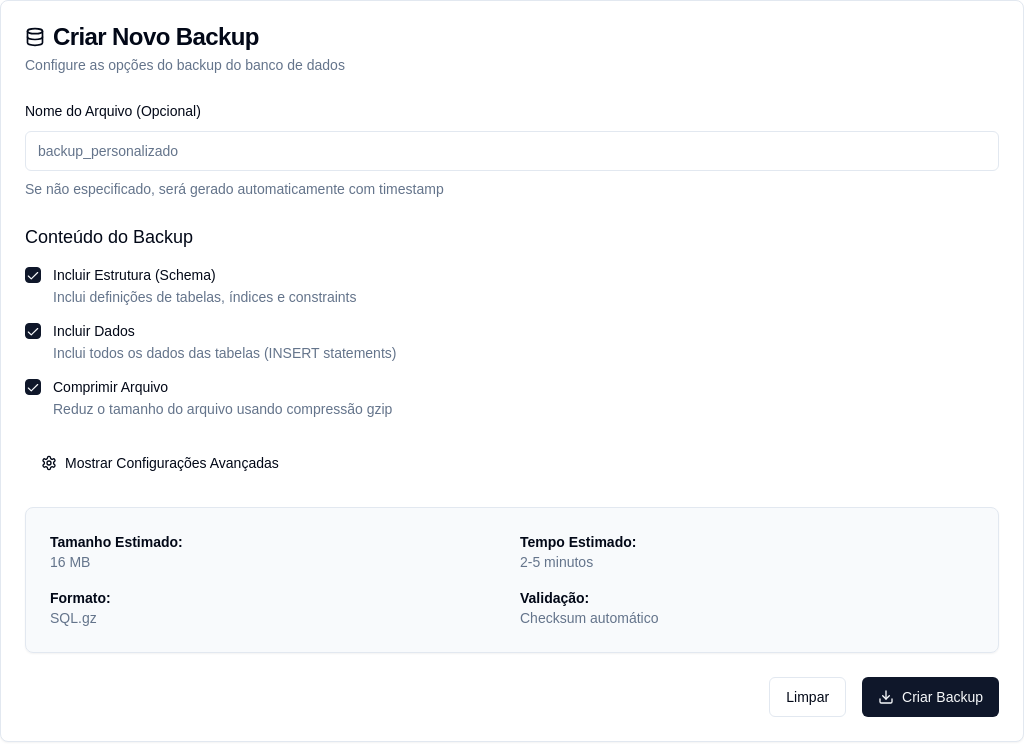
CreateBackupForm › deve mostrar aviso quando nem dados nem schema estão selecionados
The width and height of the screenshot is (1024, 756).
Click the checkbox named "Incluir Estrutura (Schema)" next to "Incluir Estrutura (Schema)" at (33, 275), box [25, 267, 41, 283]
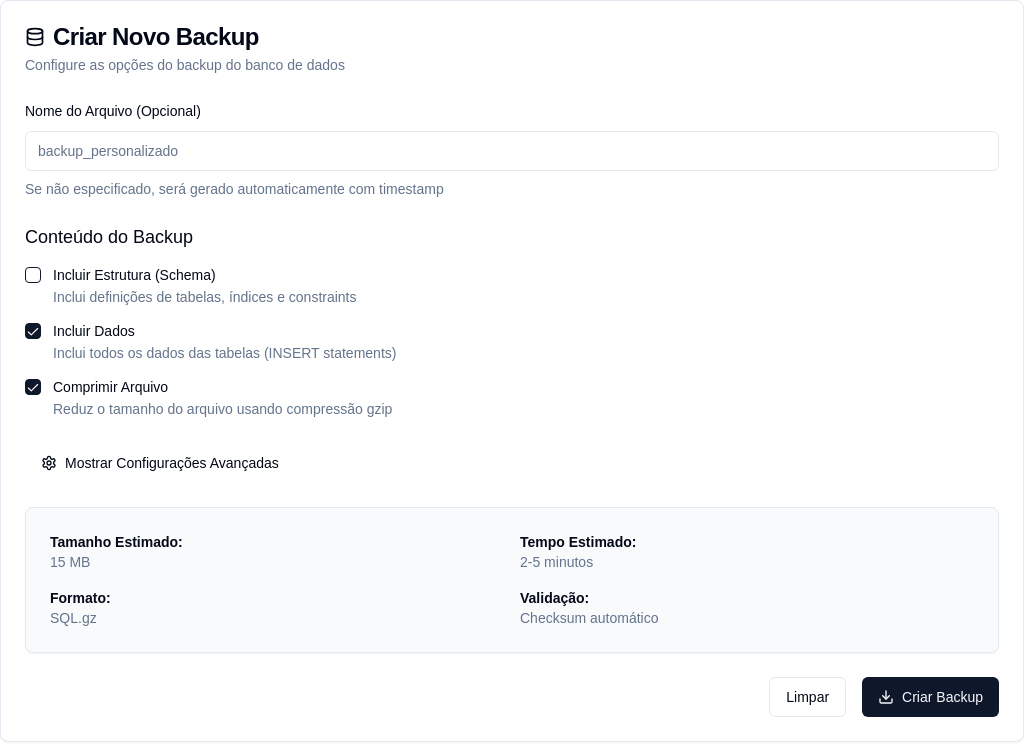
Click the checkbox named "Incluir Dados" next to "Incluir Dados" at (33, 331), box [25, 323, 41, 339]
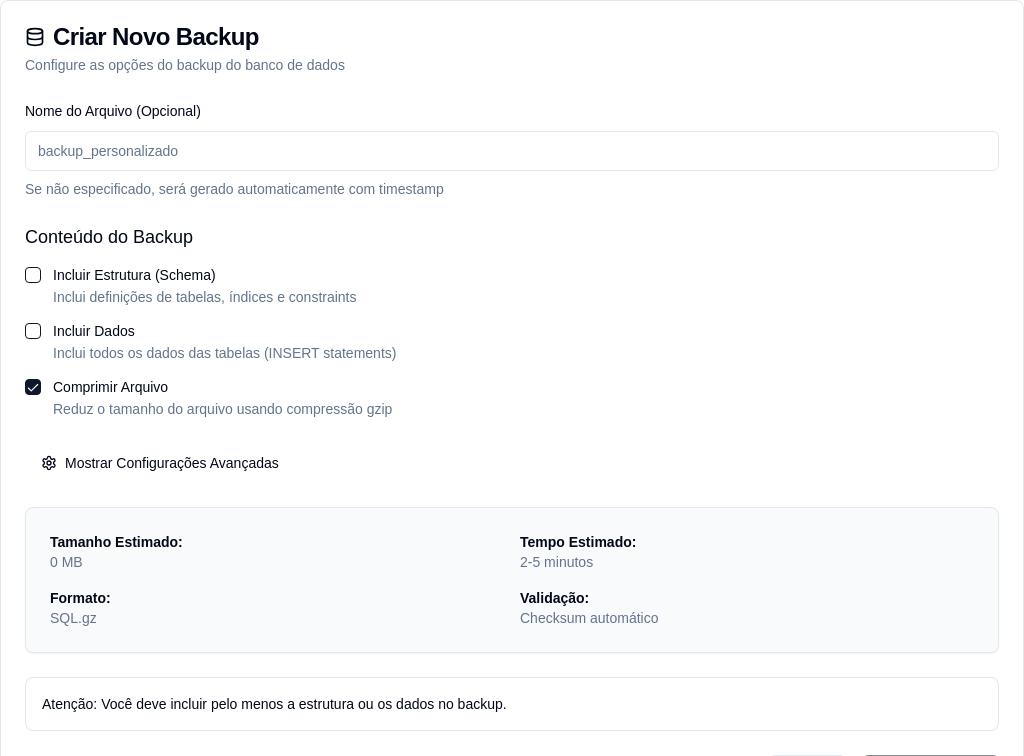
Check: the text "Atenção: Você deve incluir pelo menos a estrutura ou os dados no backup." is shown, box [42, 696, 507, 712]
